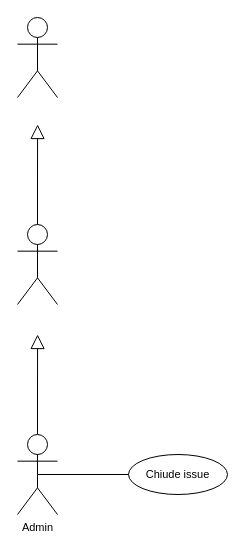
The diagram is 245 pixels wide and 552 high, and some of its shapes have lost their labels. Here are the shapes that lost their labels. From the top down, the box of each, then its label:
(16, 16, 58, 98): Lurker
(16, 224, 58, 304): User
